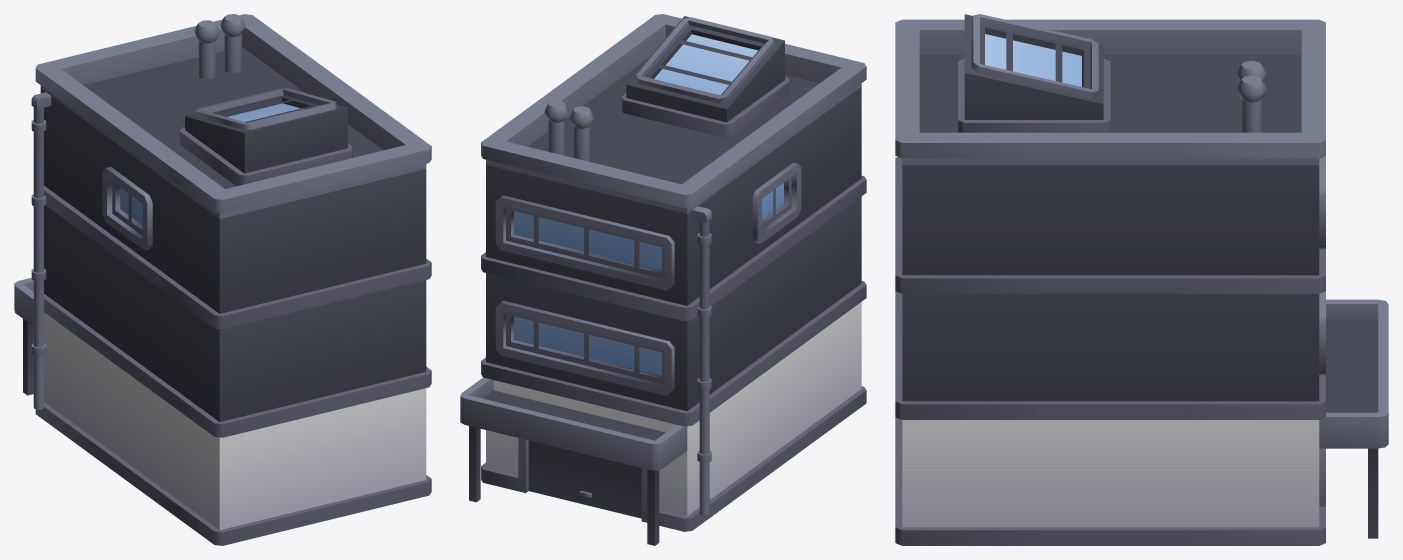
File: building-d.glb
3 renders of one model, left to right at view 1: azimuth 30°, elevation 25°; view 2: azimuth 150°, elevation 25°; view 3: azimuth 270°, elevation 25°, orthographic. The views are drawn at different scales.
Visible parts, largest first — view 1: building-d; view 2: building-d; view 3: building-d.
Boxes of the visible parts, x1,y1,x2,y2 form: building-d: (14, 14, 431, 545); building-d: (460, 14, 866, 545); building-d: (895, 14, 1388, 545).
Bounding box in the file's own units: 0.8836 × 1.41 × 1.42.
Materials: 2 (2 with a texture image).
